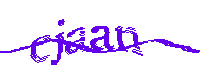a: (89, 24, 112, 52), (65, 26, 86, 55)
c: (29, 33, 53, 64)
j: (52, 17, 64, 67)
n: (116, 25, 144, 57)
